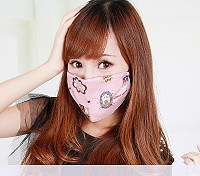face_mask: (65, 30, 130, 115)
